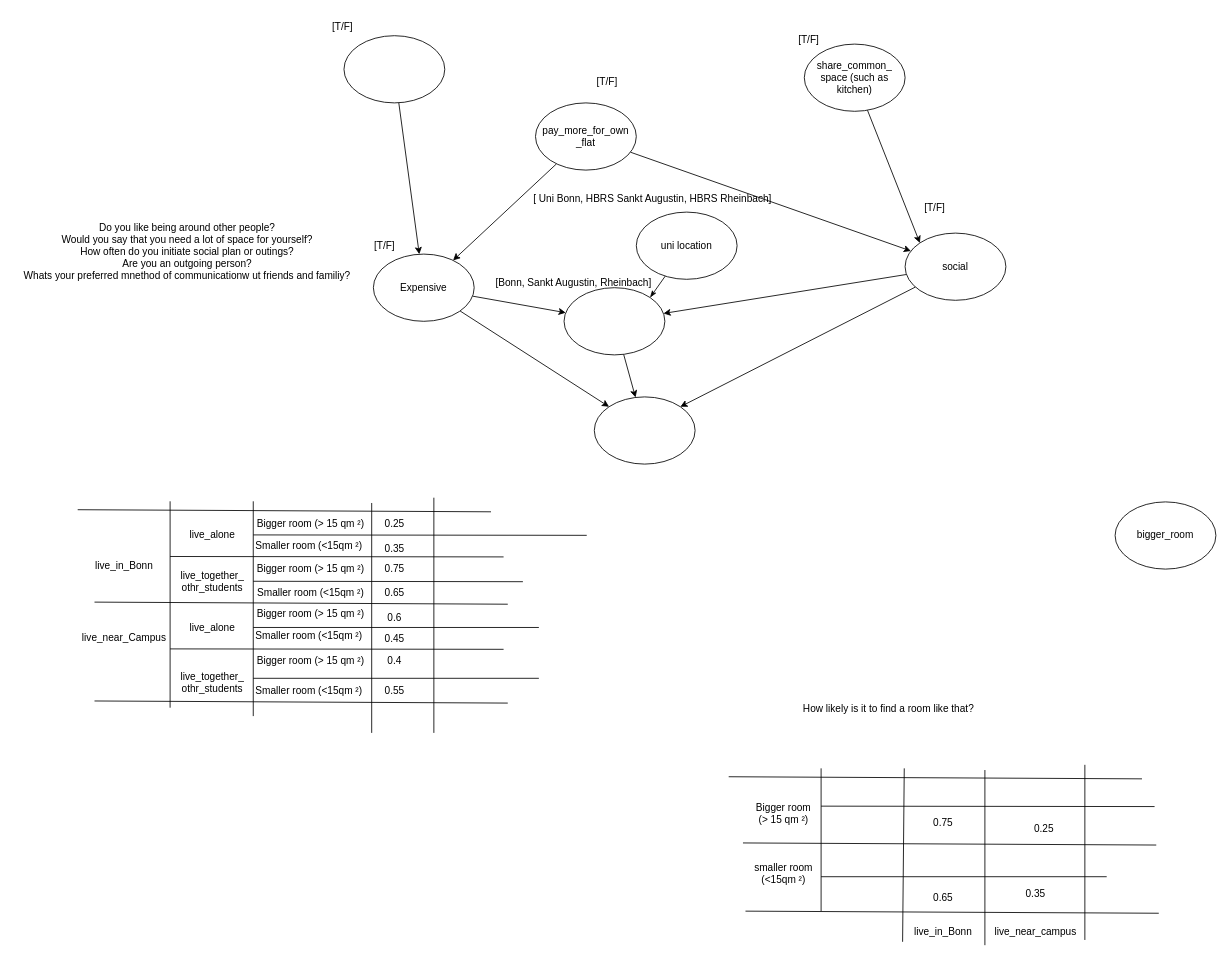
This 1231x961 diagram has some shape labels left out. The shapes that lost their labels are listed below. From the top down, each one's centre as x and y in pixels, then its label:
At (394,69): "limited_budget".
At (614,321): "location preference".
At (644,430): "student dorm".
